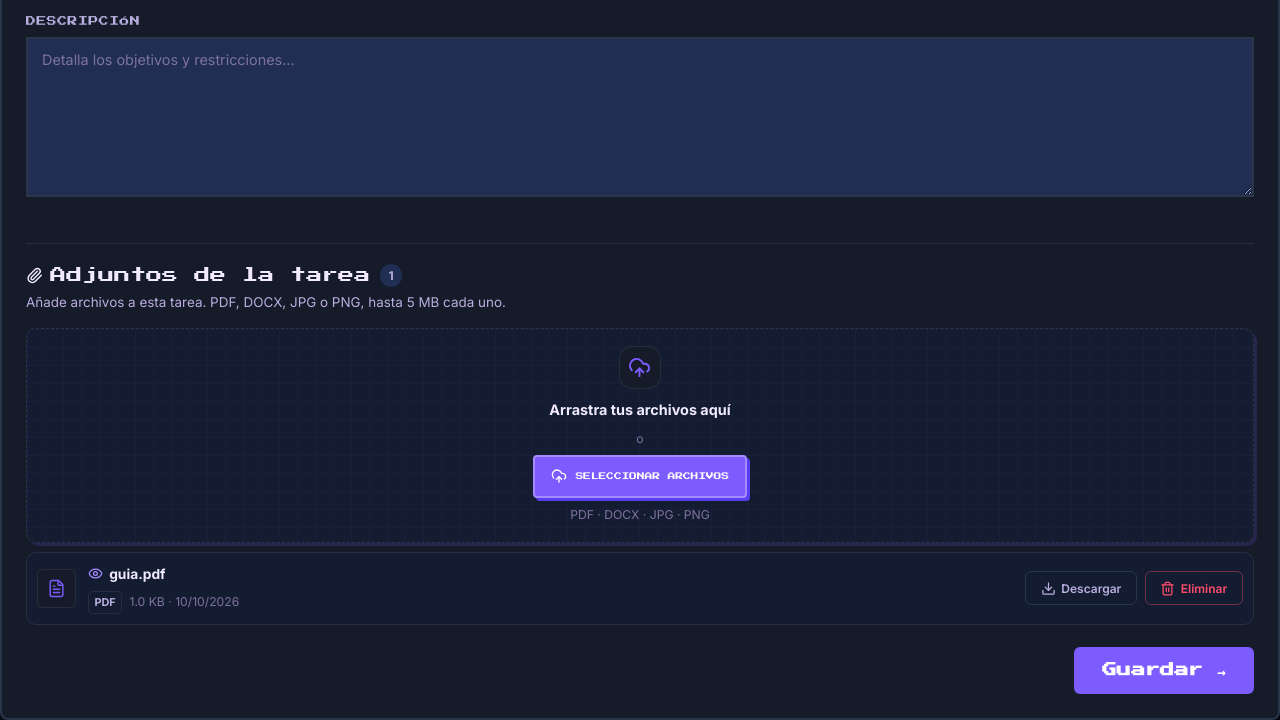
Test: adjuntos de tareas › confirma y elimina un archivo desde la edición
(page scrolled)
Expected: the text "guia.pdf" is shown, [109,563,166,585]
Click the button "Eliminar".
click(1194, 588)  # box [1145,571,1243,605]
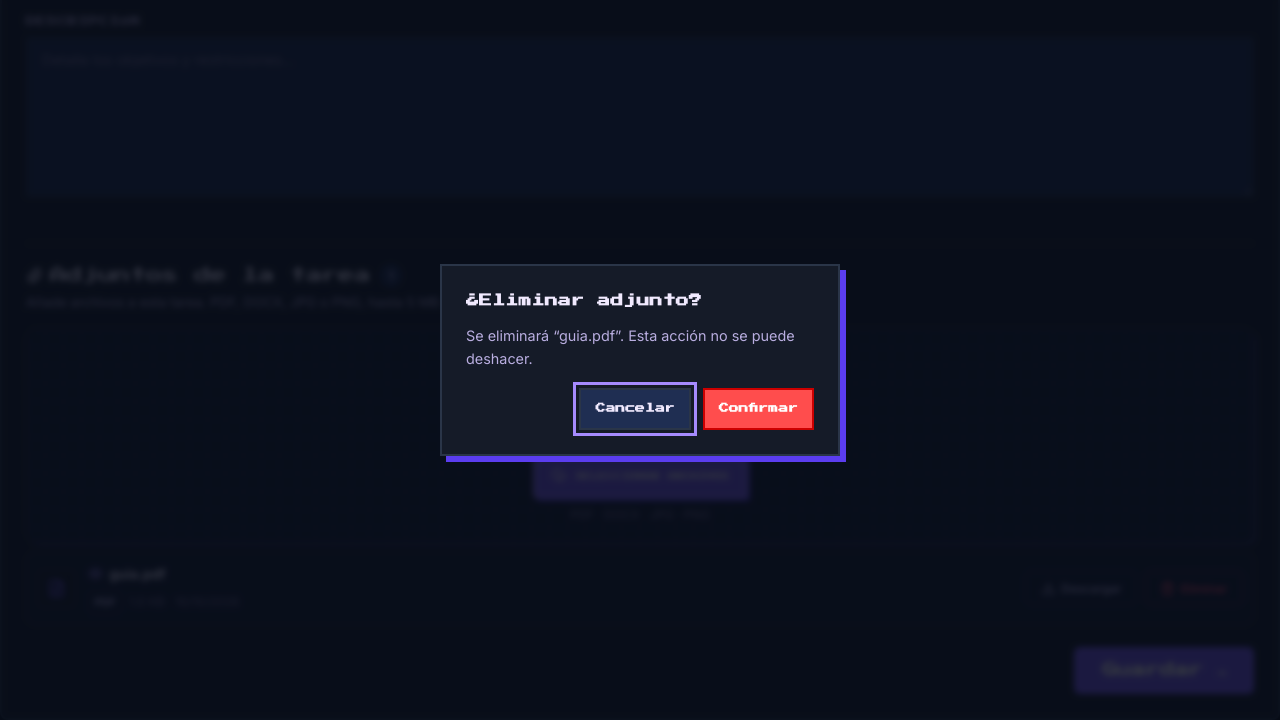
Expected: the text "Se eliminará “guia.pdf”. Esta acción no se puede deshacer." is shown, [466,325,814,370]
Click the button "Confirmar".
click(758, 409)  # box [703,388,814,430]
(page scrolled)
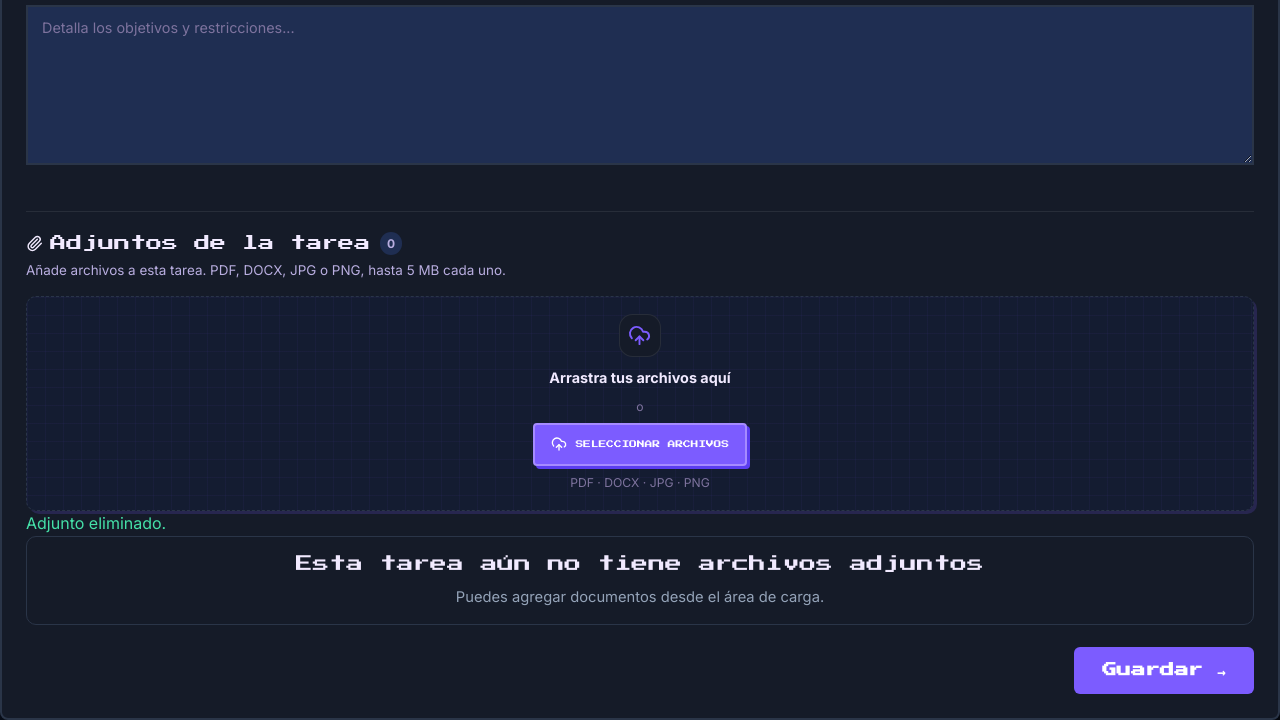
Expected: the button "guia.pdf" is not shown
Expected: the message reads "Adjunto eliminado.", [26,513,166,533]
